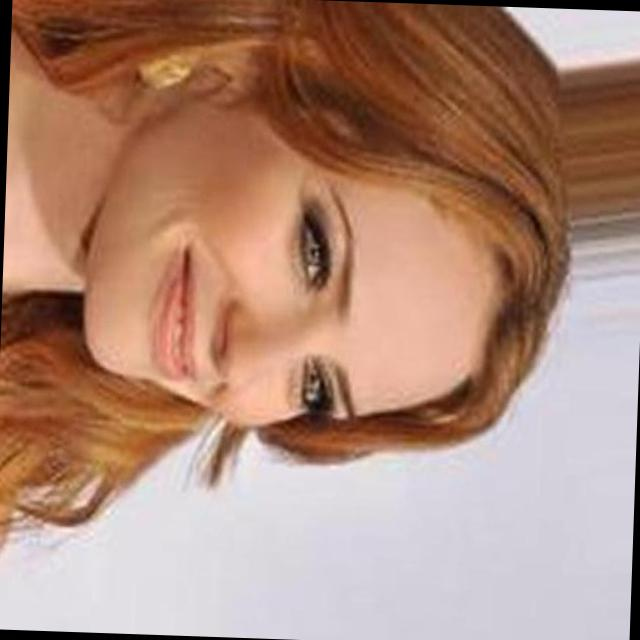bareface: (61, 0, 535, 437)
